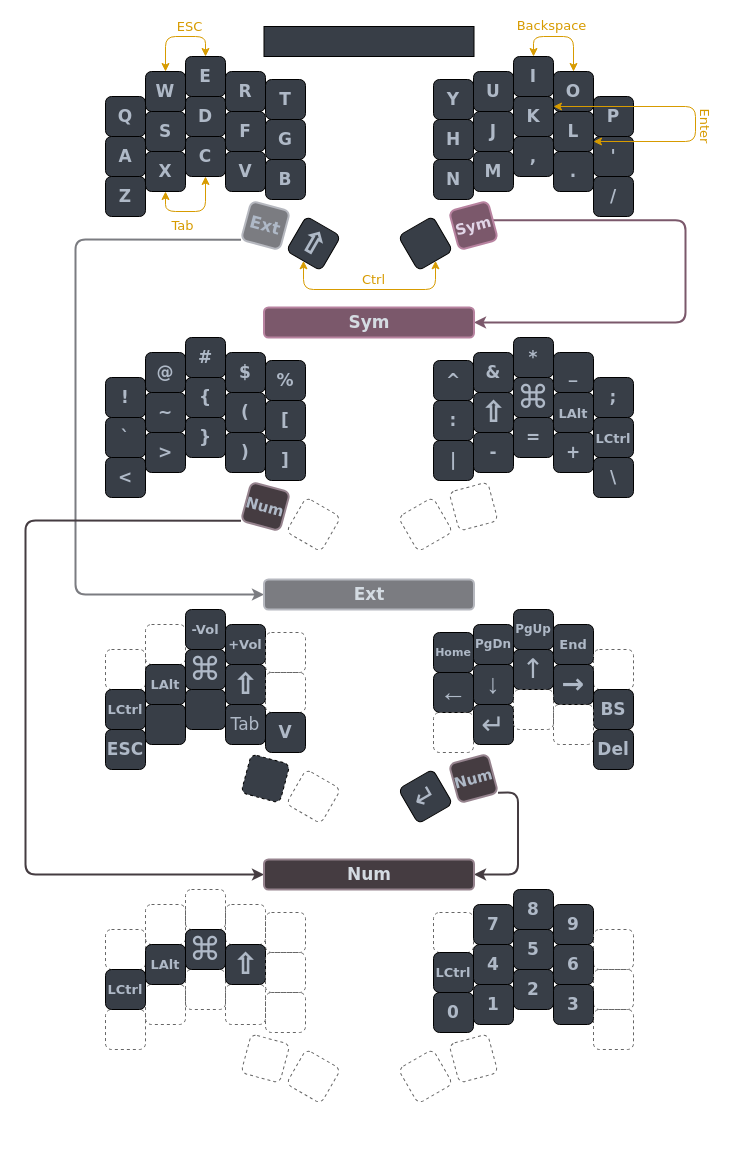
Some shapes in this 730 by 1165 pixel diagram are drawn without their labels. Here are the shapes that lost their labels. From the top down, the centre of each, then its label:
point 368,41: Base
point 425,243: Spc
